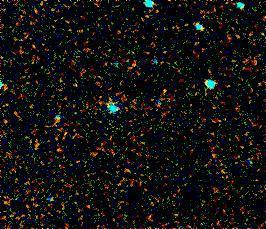star: (150, 74, 180, 104)
